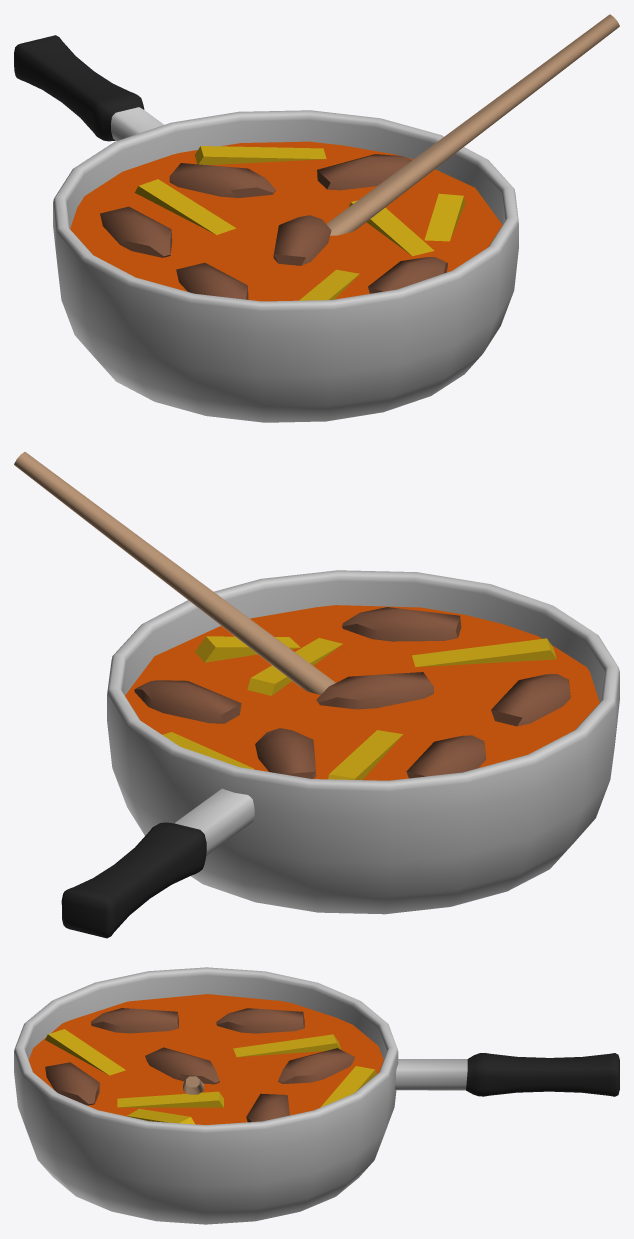
The model's file is Cooked-Food-2.fbx.
3 views of the same model, one above another, from view 1: azimuth 30°, elevation 25°; view 2: azimuth 150°, elevation 25°; view 3: azimuth 270°, elevation 25° (orthographic). The views are drawn at different scales.
Visible parts, largest first — view 1: Cooked-Food-2; view 2: Cooked-Food-2; view 3: Cooked-Food-2.
Part boxes in pixels (bbox=[...]): Cooked-Food-2: bbox=[14, 14, 619, 422]; Cooked-Food-2: bbox=[14, 452, 619, 938]; Cooked-Food-2: bbox=[14, 967, 619, 1224].
Bounding box in the file's own units: 0.6085 × 0.2893 × 0.74.
